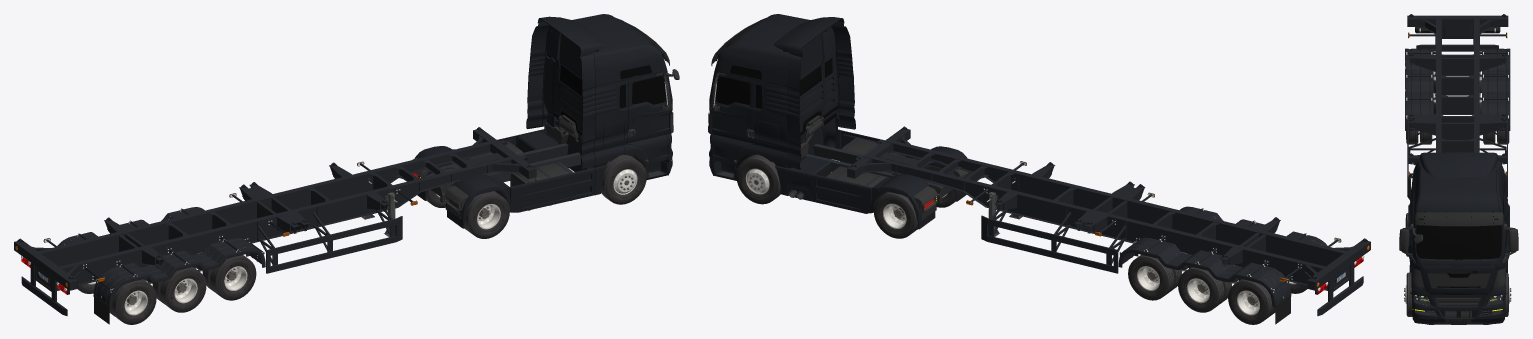
The model's file is truck.glb.
3 views of the same model, side by side, from view 1: azimuth 30°, elevation 25°; view 2: azimuth 150°, elevation 25°; view 3: azimuth 270°, elevation 25° (orthographic). The views are drawn at different scales.
Visible parts, largest first — view 1: Object_39, d75ac7d3-ea99-4386-8004-2b8b4d77a8ed.001_Grey_0, Object_38, d75ac7d3-ea99-4386-8004-2b8b4d77a8ed.015_Grey_0, d75ac7d3-ea99-4386-8004-2b8b4d77a8ed.011_Grey_0, Object_42, d75ac7d3-ea99-4386-8004-2b8b4d77a8ed.012_Grey_0, d75ac7d3-ea99-4386-8004-2b8b4d77a8ed_dark_0, Object_41, d75ac7d3-ea99-4386-8004-2b8b4d77a8ed.003_Material_0, d75ac7d3-ea99-4386-8004-2b8b4d77a8ed.015_Back Trailor_0, WHEEL_10 (+5 smaller); view 2: Object_39, d75ac7d3-ea99-4386-8004-2b8b4d77a8ed.001_Grey_0, Object_41, d75ac7d3-ea99-4386-8004-2b8b4d77a8ed.015_Grey_0, d75ac7d3-ea99-4386-8004-2b8b4d77a8ed.011_Grey_0, Object_42, d75ac7d3-ea99-4386-8004-2b8b4d77a8ed_dark_0, d75ac7d3-ea99-4386-8004-2b8b4d77a8ed.012_Grey_0, Object_38, d75ac7d3-ea99-4386-8004-2b8b4d77a8ed.003_Material_0, WHEEL_10, d75ac7d3-ea99-4386-8004-2b8b4d77a8ed.015_Back Trailor_0 (+5 smaller); view 3: d75ac7d3-ea99-4386-8004-2b8b4d77a8ed.001_Grey_0, Object_39, Object_42, Object_38, d75ac7d3-ea99-4386-8004-2b8b4d77a8ed.003_Material_0, Object_41, d75ac7d3-ea99-4386-8004-2b8b4d77a8ed.011_Grey_0, d75ac7d3-ea99-4386-8004-2b8b4d77a8ed.004_dark_0, d75ac7d3-ea99-4386-8004-2b8b4d77a8ed.010_dark_0, d75ac7d3-ea99-4386-8004-2b8b4d77a8ed.009_dark_0, d75ac7d3-ea99-4386-8004-2b8b4d77a8ed.001_Darker Most_0, d75ac7d3-ea99-4386-8004-2b8b4d77a8ed.008_Darker Most_0 (+12 smaller).
Part boxes in pixels (x1,y1,x2,y2): Object_39: [38, 139, 520, 290]; d75ac7d3-ea99-4386-8004-2b8b4d77a8ed.001_Grey_0: [541, 14, 672, 195]; Object_38: [46, 148, 536, 307]; d75ac7d3-ea99-4386-8004-2b8b4d77a8ed.015_Grey_0: [414, 129, 594, 228]; d75ac7d3-ea99-4386-8004-2b8b4d77a8ed.011_Grey_0: [526, 16, 607, 169]; Object_42: [14, 153, 503, 315]; d75ac7d3-ea99-4386-8004-2b8b4d77a8ed.012_Grey_0: [543, 52, 634, 171]; d75ac7d3-ea99-4386-8004-2b8b4d77a8ed_dark_0: [412, 79, 663, 218]; Object_41: [57, 127, 508, 246]; d75ac7d3-ea99-4386-8004-2b8b4d77a8ed.003_Material_0: [560, 65, 665, 108]; d75ac7d3-ea99-4386-8004-2b8b4d77a8ed.015_Back Trailor_0: [425, 143, 580, 210]; WHEEL_10: [426, 164, 509, 238]; Object_39: [863, 139, 1346, 290]; d75ac7d3-ea99-4386-8004-2b8b4d77a8ed.001_Grey_0: [709, 14, 840, 195]; Object_41: [847, 148, 1291, 307]; d75ac7d3-ea99-4386-8004-2b8b4d77a8ed.015_Grey_0: [787, 130, 967, 229]; d75ac7d3-ea99-4386-8004-2b8b4d77a8ed.011_Grey_0: [774, 17, 855, 169]; Object_42: [879, 152, 1370, 315]; d75ac7d3-ea99-4386-8004-2b8b4d77a8ed_dark_0: [717, 115, 969, 220]; d75ac7d3-ea99-4386-8004-2b8b4d77a8ed.012_Grey_0: [747, 52, 838, 160]; Object_38: [853, 126, 1338, 290]; d75ac7d3-ea99-4386-8004-2b8b4d77a8ed.003_Material_0: [716, 65, 821, 108]; WHEEL_10: [873, 164, 955, 238]; d75ac7d3-ea99-4386-8004-2b8b4d77a8ed.015_Back Trailor_0: [800, 137, 952, 213]; d75ac7d3-ea99-4386-8004-2b8b4d77a8ed.001_Grey_0: [1409, 167, 1507, 324]; Object_39: [1408, 19, 1479, 161]; Object_42: [1407, 14, 1509, 175]; Object_38: [1405, 34, 1509, 227]; d75ac7d3-ea99-4386-8004-2b8b4d77a8ed.003_Material_0: [1414, 198, 1503, 259]; Object_41: [1479, 48, 1510, 196]; d75ac7d3-ea99-4386-8004-2b8b4d77a8ed.011_Grey_0: [1408, 152, 1509, 258]; d75ac7d3-ea99-4386-8004-2b8b4d77a8ed.004_dark_0: [1399, 221, 1518, 318]; d75ac7d3-ea99-4386-8004-2b8b4d77a8ed.010_dark_0: [1415, 212, 1503, 226]; d75ac7d3-ea99-4386-8004-2b8b4d77a8ed.009_dark_0: [1427, 273, 1490, 287]; d75ac7d3-ea99-4386-8004-2b8b4d77a8ed.001_Darker Most_0: [1410, 197, 1507, 321]; d75ac7d3-ea99-4386-8004-2b8b4d77a8ed.008_Darker Most_0: [1424, 287, 1493, 317].
Size of the model in its own units: 16.22 by 4.05 by 2.99.
41 materials, 12 textured.
